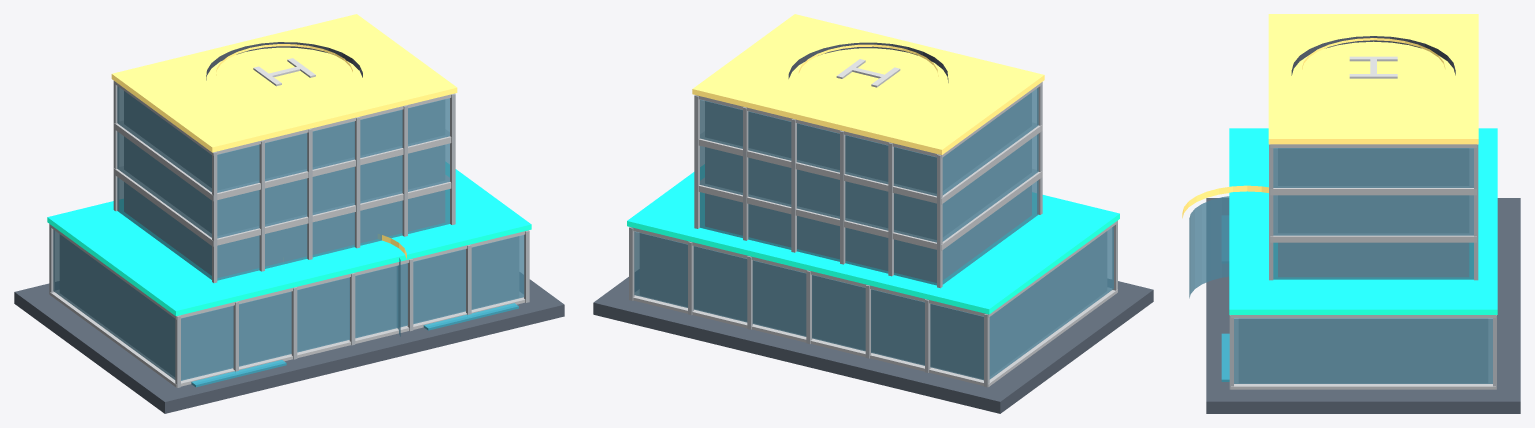
The model's file is club_hq.glb.
3 renders of one model, left to right at view 1: azimuth 30°, elevation 25°; view 2: azimuth 150°, elevation 25°; view 3: azimuth 270°, elevation 25°, orthographic. The views are drawn at different scales.
Visible parts, largest first — view 1: club_hq; view 2: club_hq; view 3: club_hq.
Boxes of the visible parts, box(x1,y1,x2,y2) form: club_hq: box(14, 14, 564, 413); club_hq: box(593, 14, 1153, 413); club_hq: box(1182, 14, 1520, 413).
Bounding box in the file's own units: 2.82 × 1.59 × 1.98.
